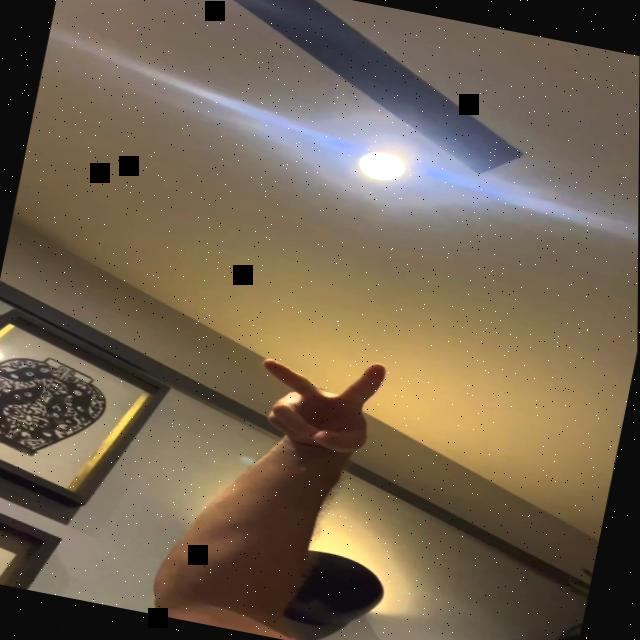Scissors: (242, 340, 390, 460)
